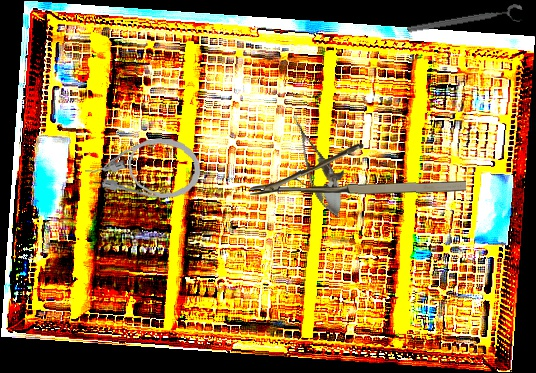Cannula: (83, 132, 204, 201)
Fixation Ring: (406, 2, 525, 43)
Micro Scissor: (281, 109, 353, 223)
Needle Holder: (250, 141, 467, 199)
